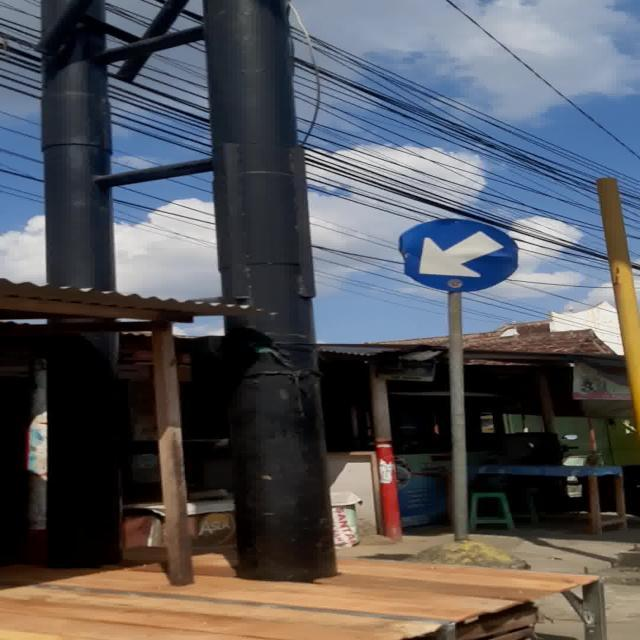Lajur Kiri: (398, 218, 518, 291)
